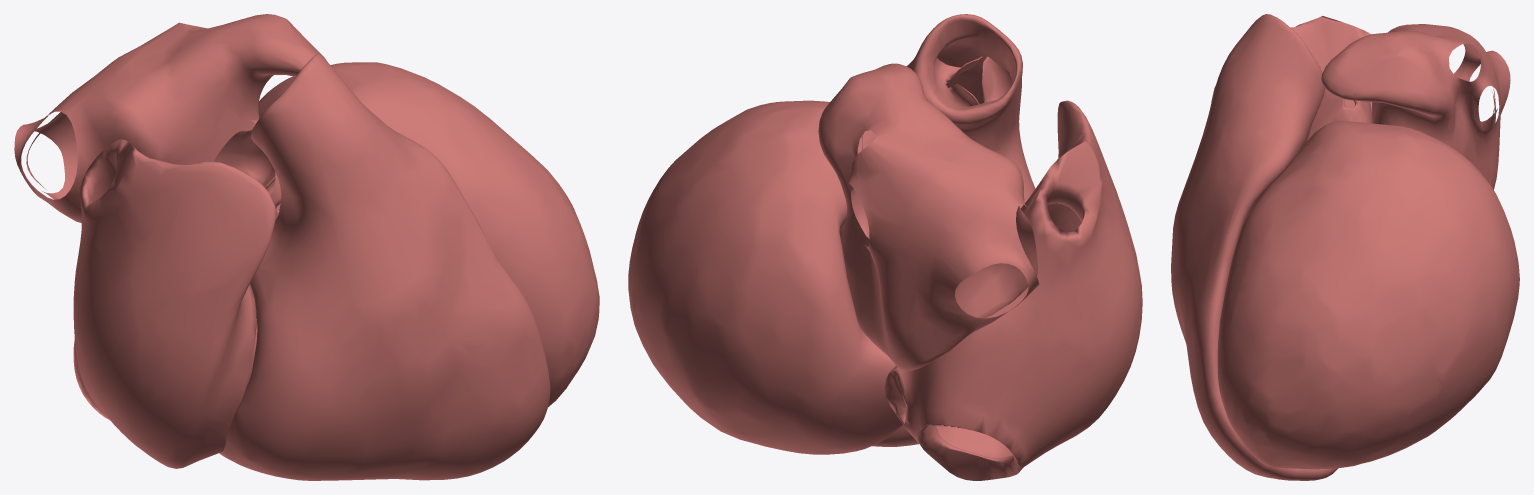
The model's file is heart.glb.
3 renders of one model, left to right at view 1: azimuth 30°, elevation 25°; view 2: azimuth 150°, elevation 25°; view 3: azimuth 270°, elevation 25°, orthographic. The views are drawn at different scales.
Parts seen in each view (by area): view 1: VH_F_interventricular_septum, VH_F_left_cardiac_atrium; view 2: VH_F_left_cardiac_atrium, VH_F_interventricular_septum; view 3: VH_F_left_cardiac_atrium, VH_F_interventricular_septum.
Part boxes in pixels (x1=…): VH_F_interventricular_septum: x1=73, y1=54, x2=550, y2=480; VH_F_left_cardiac_atrium: x1=14, y1=14, x2=599, y2=407; VH_F_left_cardiac_atrium: x1=628, y1=63, x2=1039, y2=454; VH_F_interventricular_septum: x1=839, y1=14, x2=1142, y2=480; VH_F_left_cardiac_atrium: x1=1217, y1=24, x2=1519, y2=469; VH_F_interventricular_septum: x1=1171, y1=14, x2=1372, y2=480.
Bounding box in the file's own units: 0.0977 × 0.0857 × 0.0696.
